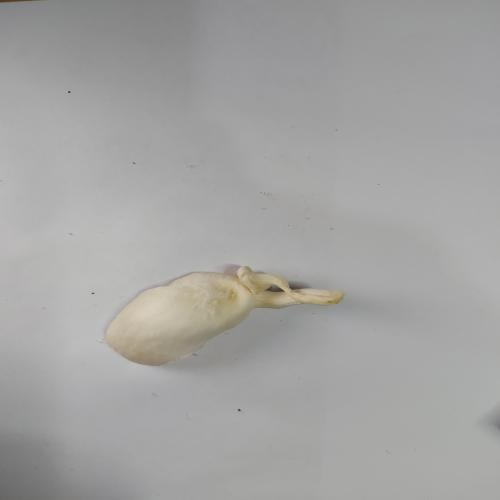Oyster Mushroom: (95, 228, 346, 380), (104, 264, 345, 367)
